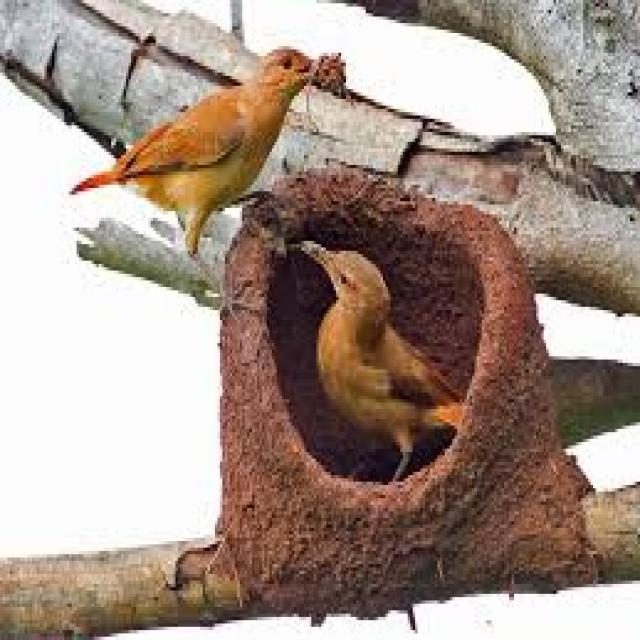bird: (64, 23, 351, 271), (282, 244, 484, 485)
